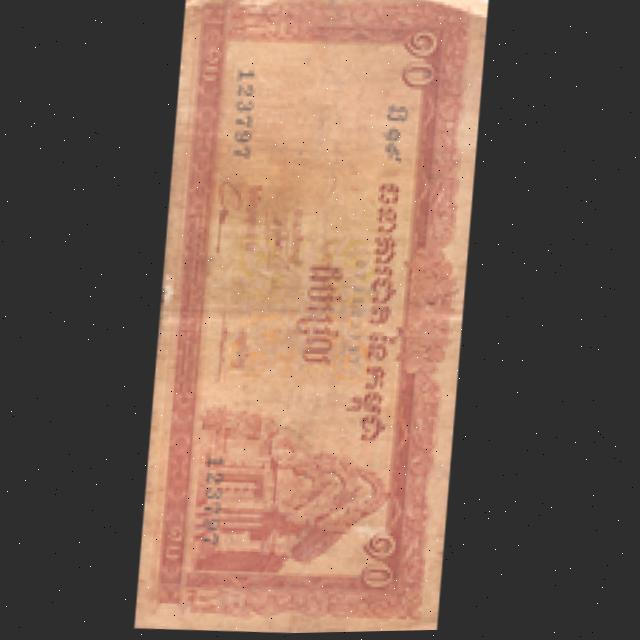banknote: (143, 0, 491, 637)
